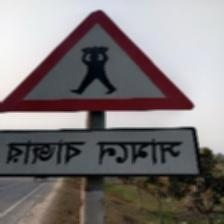Market-in-front: (0, 11, 200, 180)
